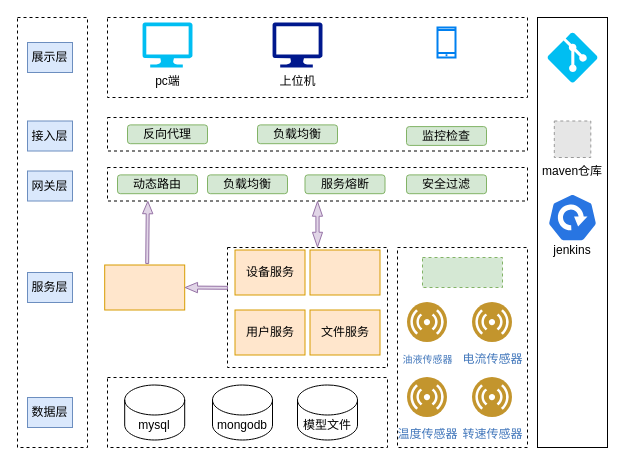
Some shapes in this 625 by 465 pixel diagram are drawn without their labels. Grey dashed boxes stand in for pictures. Here are the shapes that lost their labels. From the top down, the centre of each, then its label:
point 446,42: 移动端
point 572,57: git/svn
point 144,287: websocket服务
point 344,272: 数据采集
point 462,272: 硬件设施
